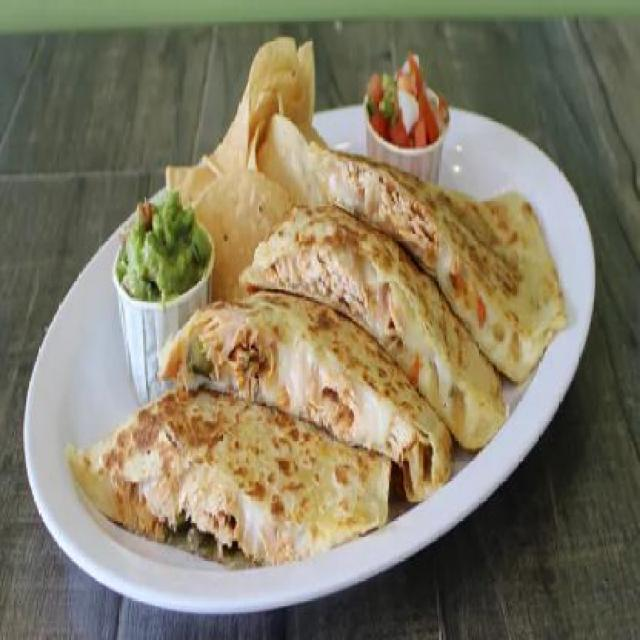chicken quesadilla: (66, 165, 572, 563)
guacamole: (110, 190, 202, 344)
nachos: (160, 23, 329, 282)
